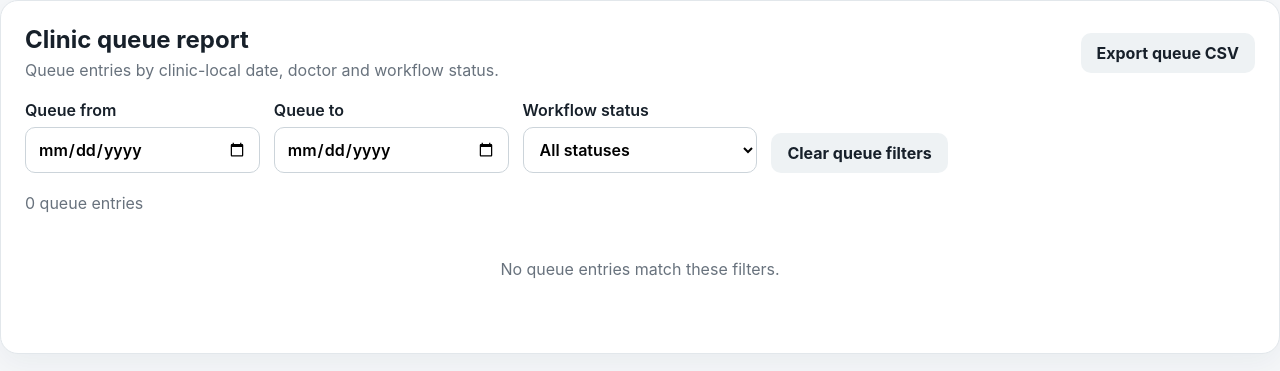
it: Queue report actor boundary › blocks reversed dates before preview or export
Type "2026-10-17" into the date field labelled "Queue from". click: (142,150)
box: [25, 127, 260, 173]
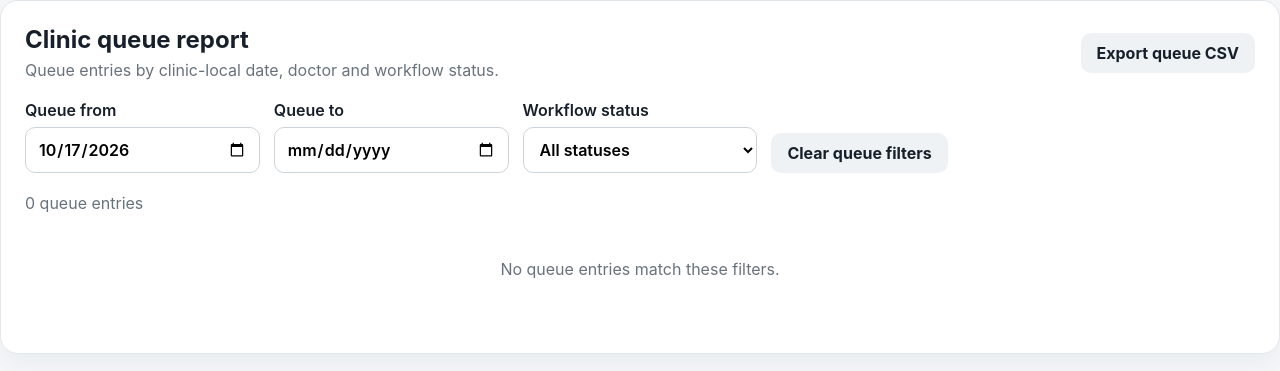
Type "2026-10-01" into the date field labelled "Queue to". click: (391,150)
box: [274, 127, 509, 173]
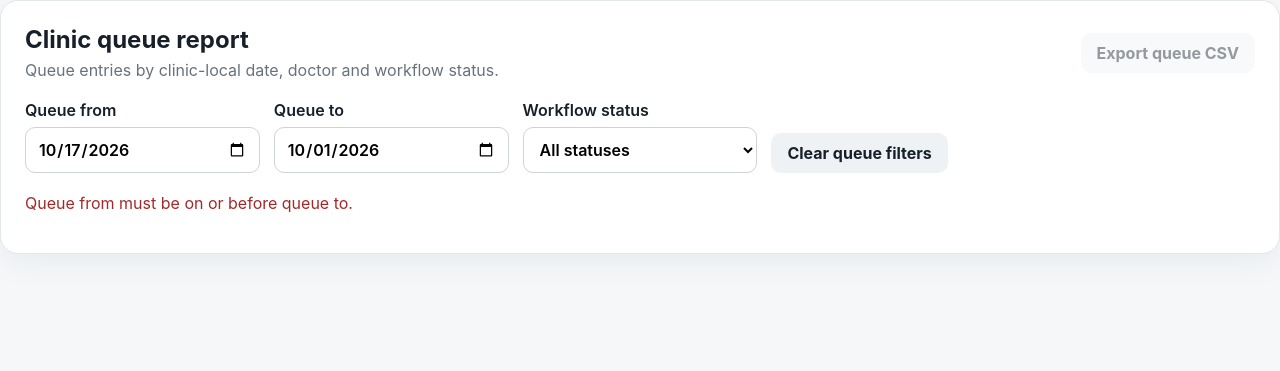
Now the message shows "on or before", box [25, 193, 353, 213]
Now the button "Export queue CSV" is disabled, box [1080, 32, 1255, 72]
